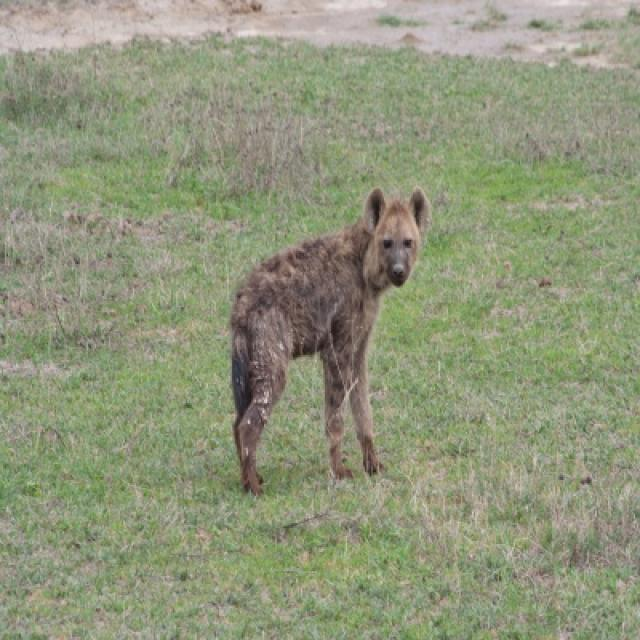hyena: (229, 190, 432, 494)
